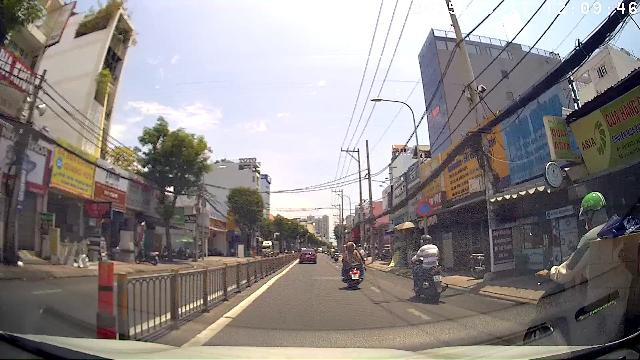131a-cam-do-xe: (417, 201, 433, 217)
